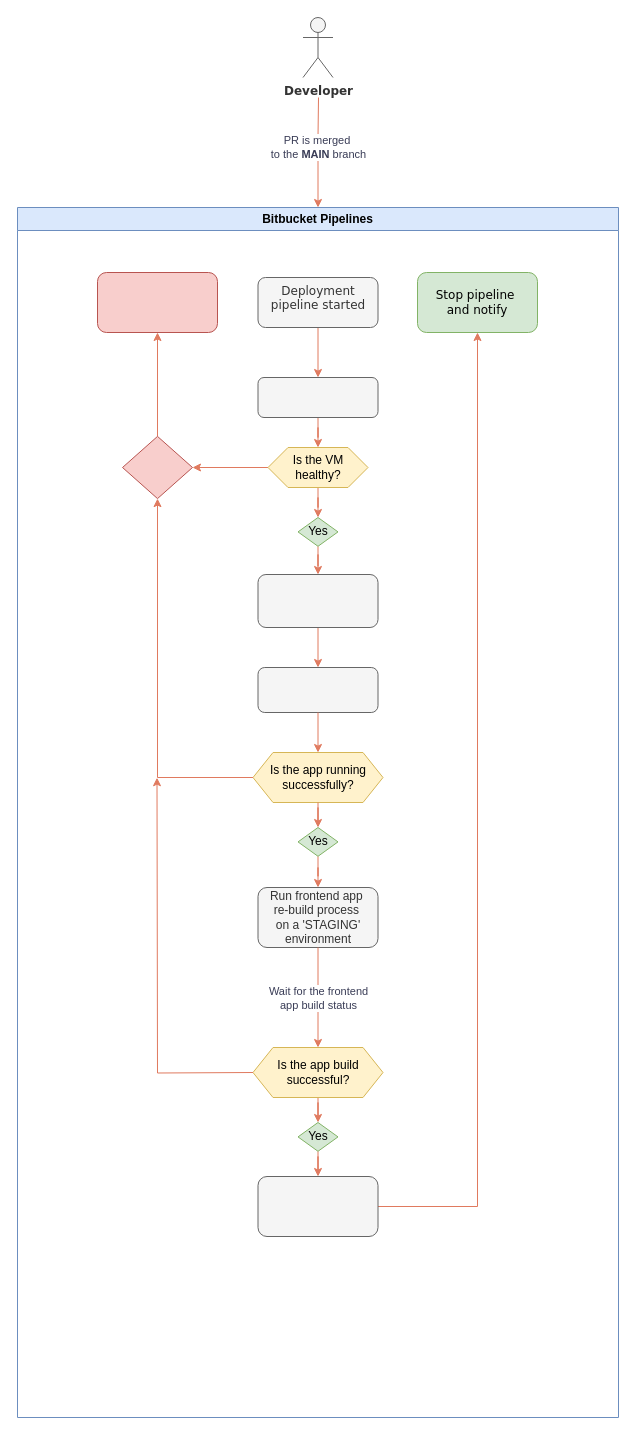
This 636x1435 diagram has some shape labels left out. The shapes that lost their labels are listed below. From the top down, each one's centre as x and y in pixels, then its label:
point 157,302: Stop pipeline and alert
point 317,397: Start AzureVM and health-check
point 157,467: NO
point 317,601: Log into the VM & pull 'main' branch
point 317,689: Install dependencies & run the app
point 317,1206: Log out of the VM and disable
